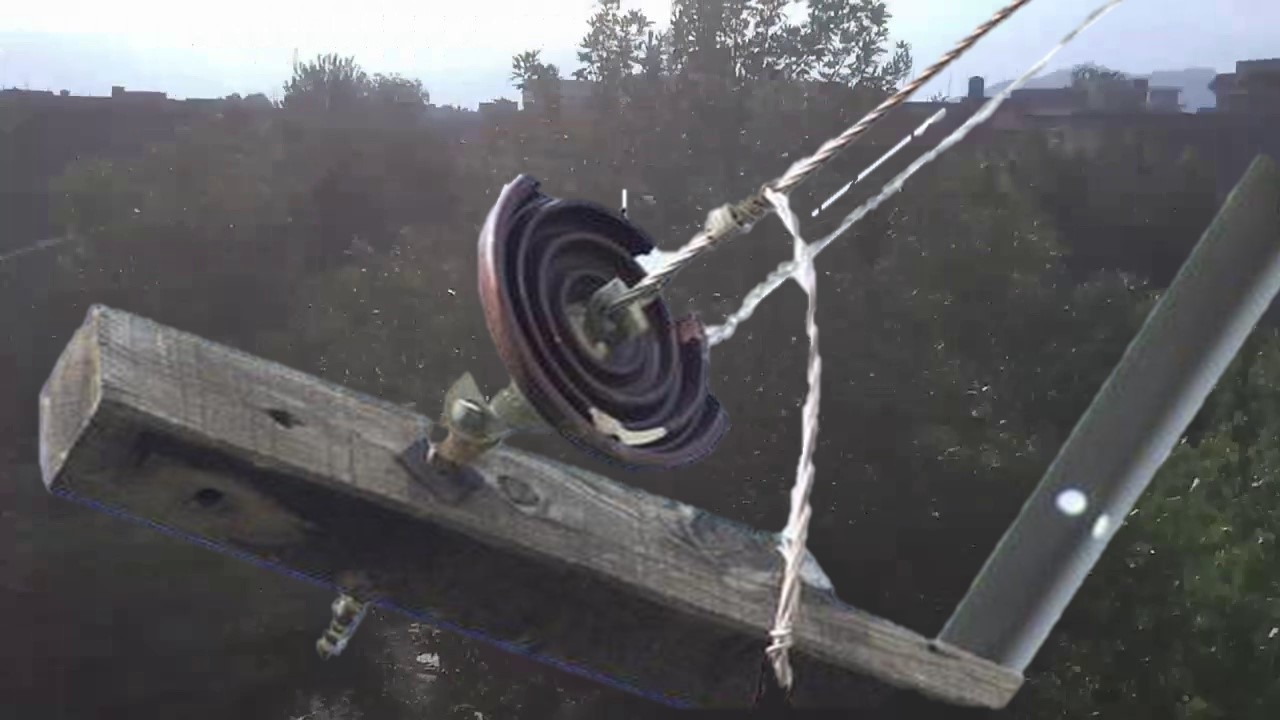defect_disc: (463, 161, 739, 480)
